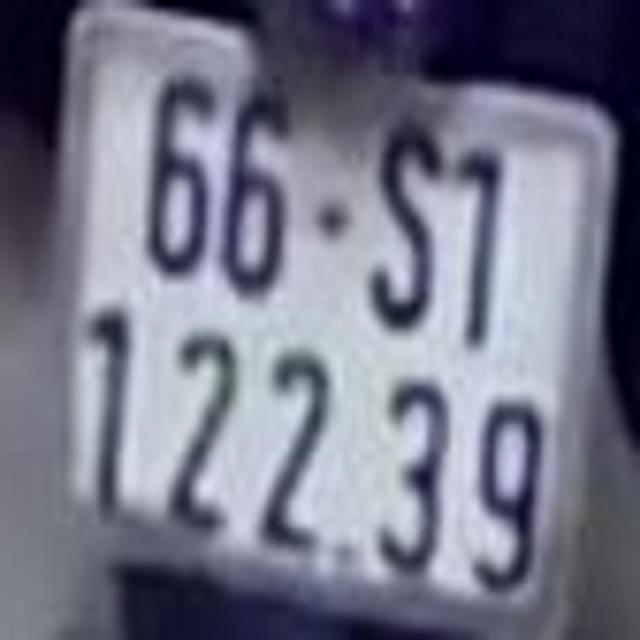1: (444, 143, 504, 346), (88, 316, 132, 516)
2: (171, 341, 233, 534), (262, 349, 317, 562)
3: (385, 396, 439, 574)
6: (224, 96, 291, 290), (147, 84, 210, 279)
9: (480, 390, 539, 600)
S: (371, 129, 439, 330)
